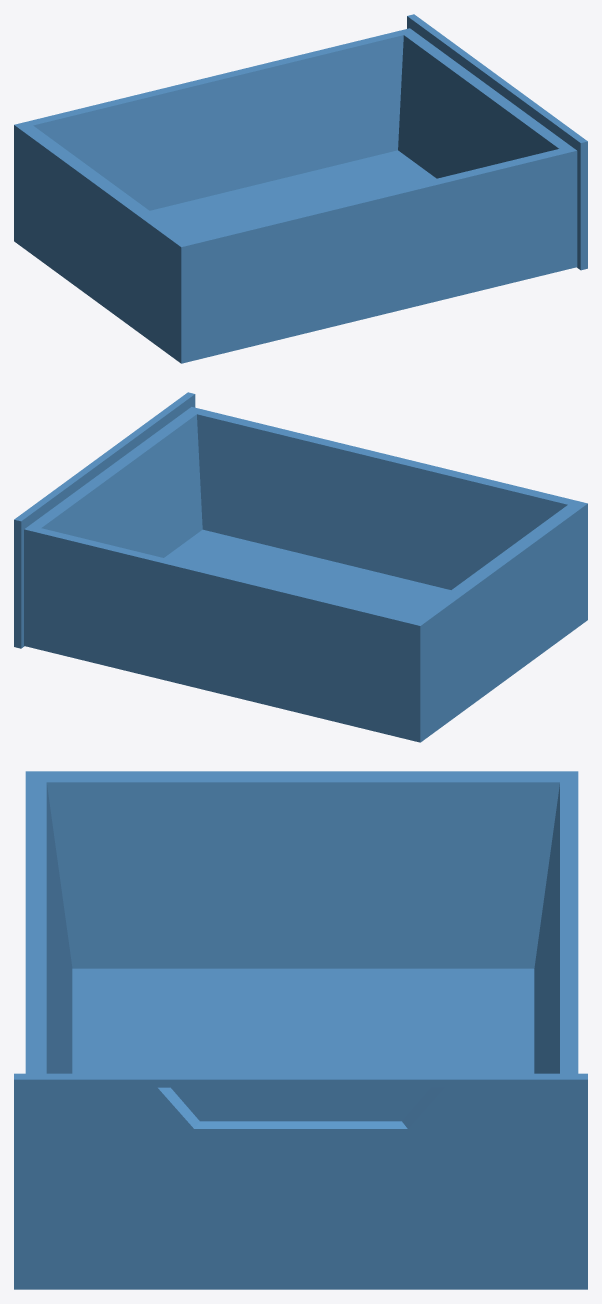
File: deskDrawer_1.fbx
3 renders of one model, top to bottom at view 1: azimuth 30°, elevation 25°; view 2: azimuth 150°, elevation 25°; view 3: azimuth 270°, elevation 25°, orthographic. The views are drawn at different scales.
Visible parts, largest first — view 1: Drawer_Desk_01; view 2: Drawer_Desk_01; view 3: Drawer_Desk_01.
Part boxes in pixels (box(x1,y1,x2,y2)): Drawer_Desk_01: box(14, 14, 587, 363); Drawer_Desk_01: box(14, 392, 587, 742); Drawer_Desk_01: box(14, 771, 587, 1289).
Size of the model in its own units: 16.21 by 4.89 by 12.11.
